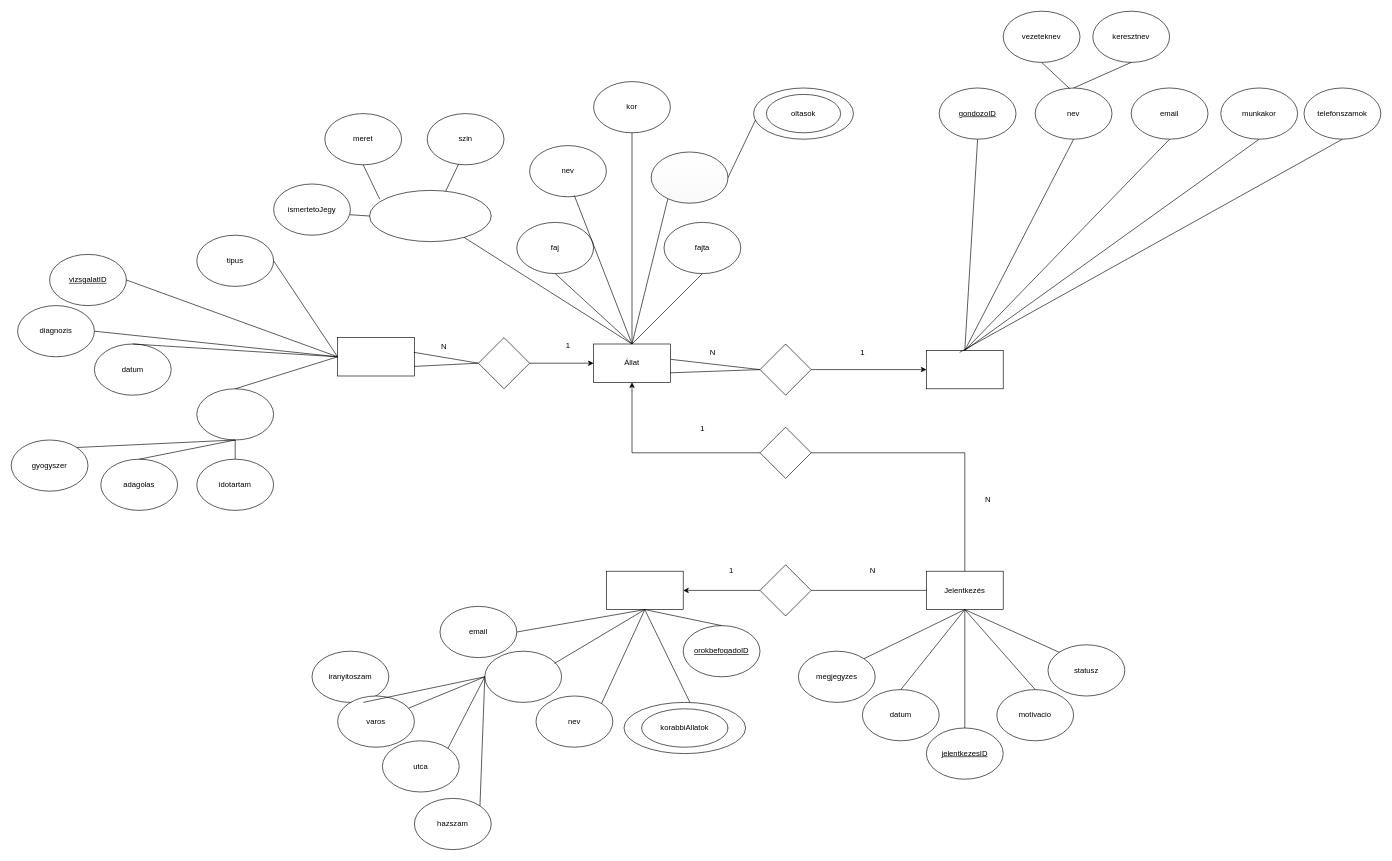
This 1392x861 diagram has some shape labels left out. The box of each missing label's shape, as (x1, y1, x2, y2) in pixels:
allatID: (651, 151, 728, 203)
Beküldi: (759, 564, 811, 616)
Felügyeli: (759, 343, 811, 395)
Gondozó: (926, 350, 1003, 389)
Jelentkezik: (759, 427, 811, 478)
Kapja: (478, 337, 530, 389)
kezeles: (196, 388, 274, 440)
lakcim: (484, 651, 562, 702)
leiras: (369, 190, 491, 242)
OrvosiVizsgálat: (337, 337, 414, 376)
Örökbefogadó: (606, 571, 683, 610)
